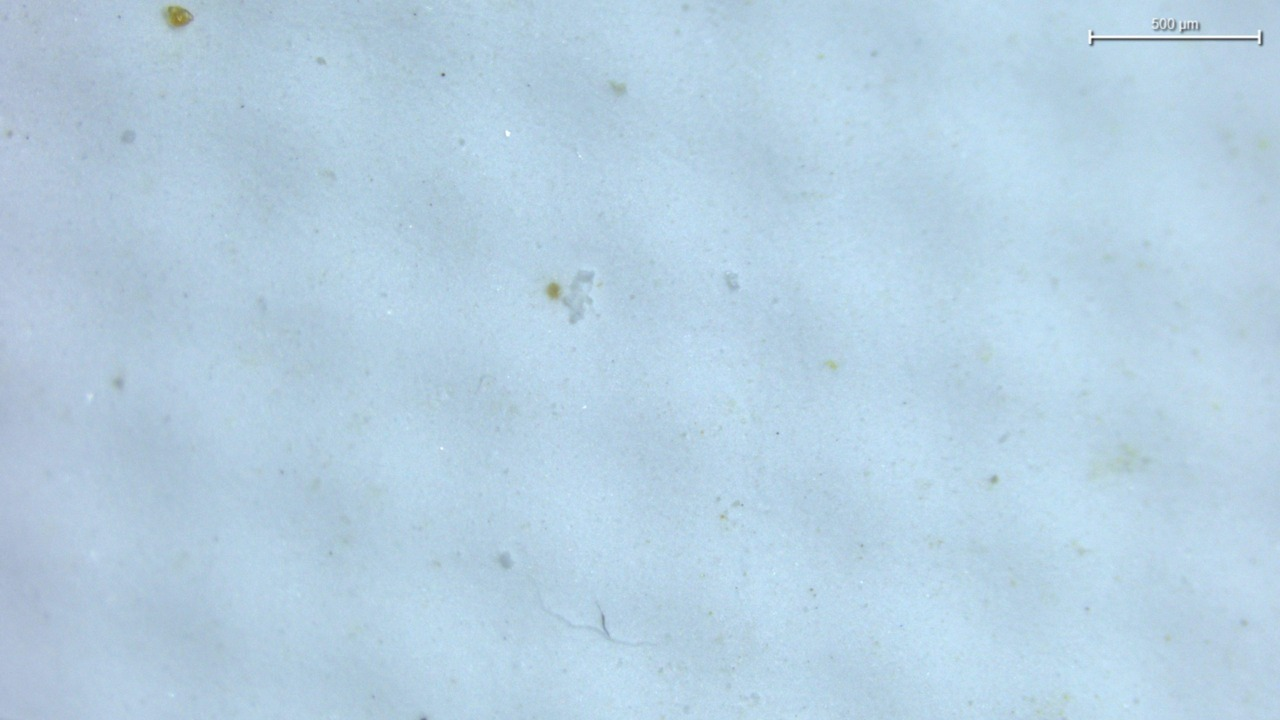microplastic_fragment: (560, 270, 595, 323)
